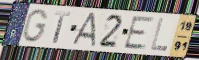2: (96, 14, 125, 50)
A: (69, 12, 98, 48)
E: (122, 16, 156, 51)
G: (22, 8, 50, 44)
L: (149, 17, 169, 52)
T: (53, 10, 72, 45)
